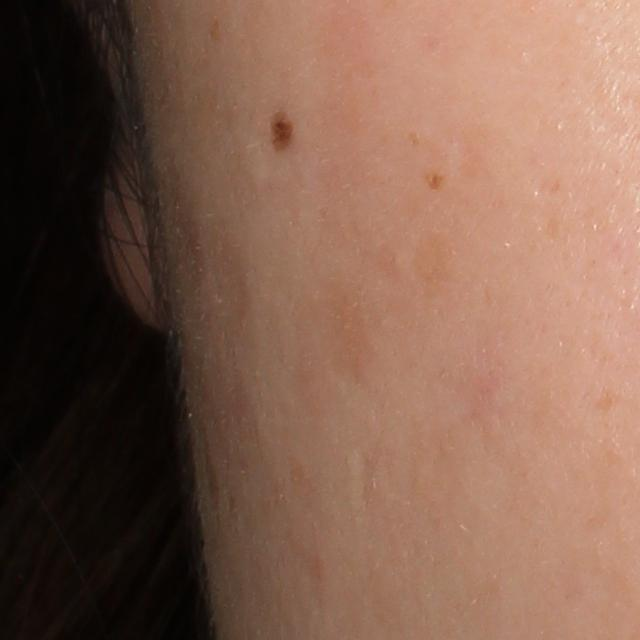atrophic_scar: (352, 446, 376, 516)
nevus: (273, 115, 295, 152), (424, 168, 442, 191)
